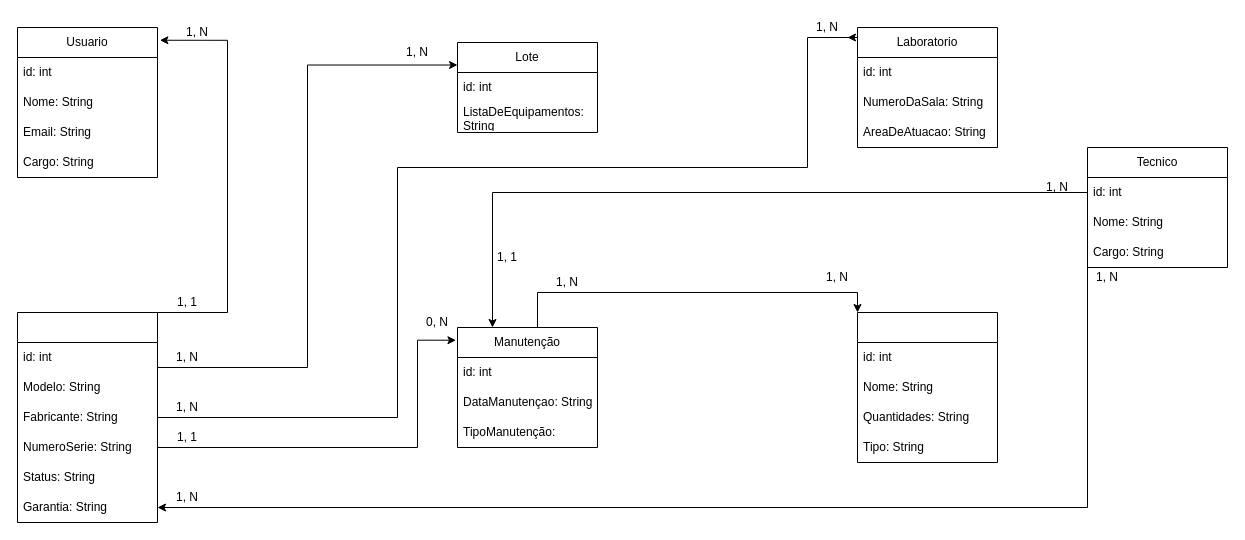
Image size: 1245x540. Some labels were removed from this diagram. The box of each missing label's shape, as (x1, y1, x2, y2) in pixels:
Equipamento: (16, 312, 158, 522)
Peças: (856, 312, 998, 462)
